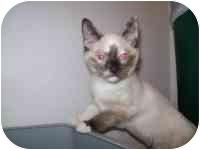siamese: (79, 14, 148, 90)
